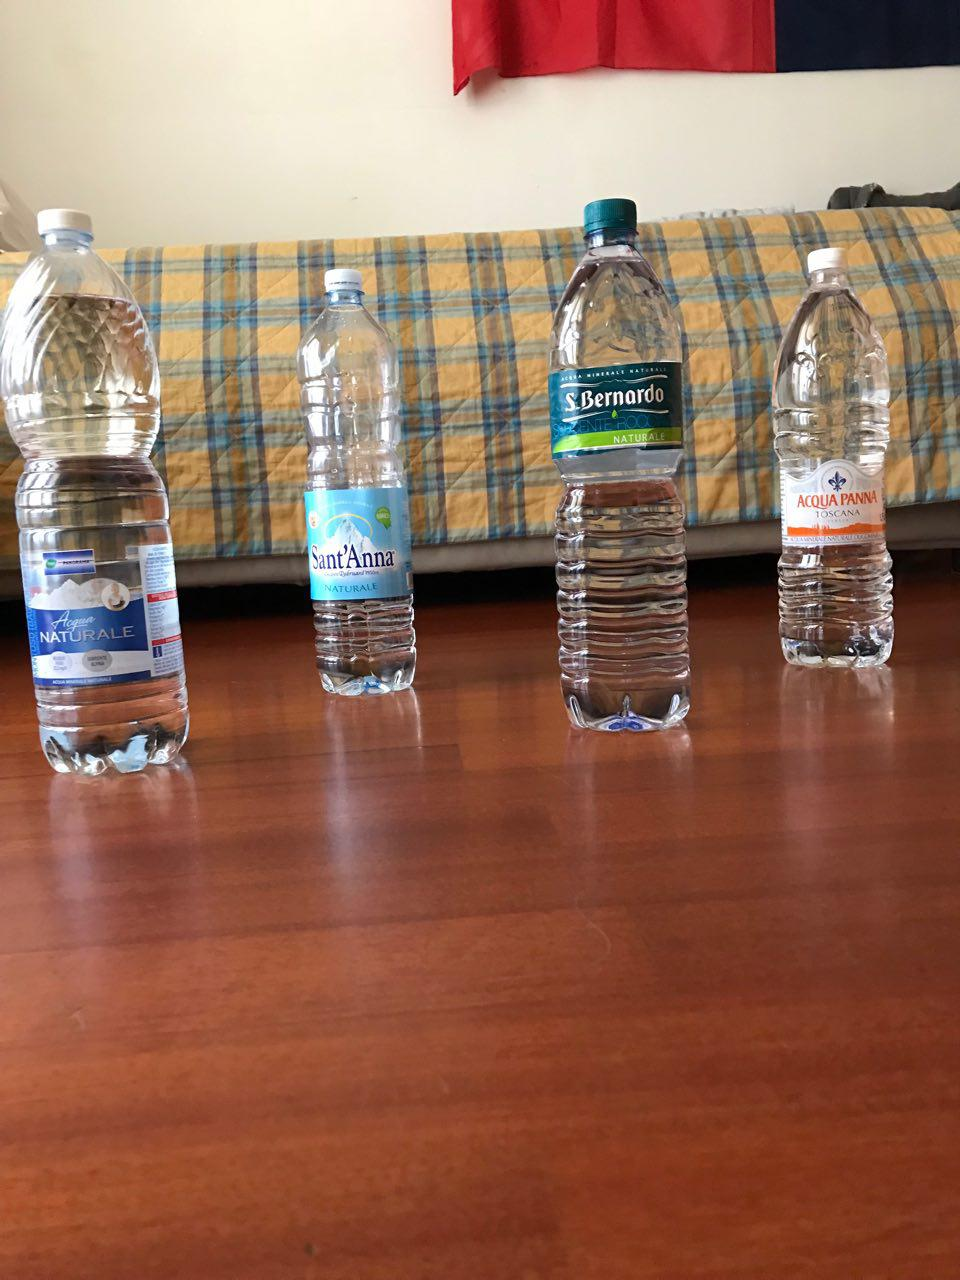san_bernardo: (545, 197, 690, 733)
